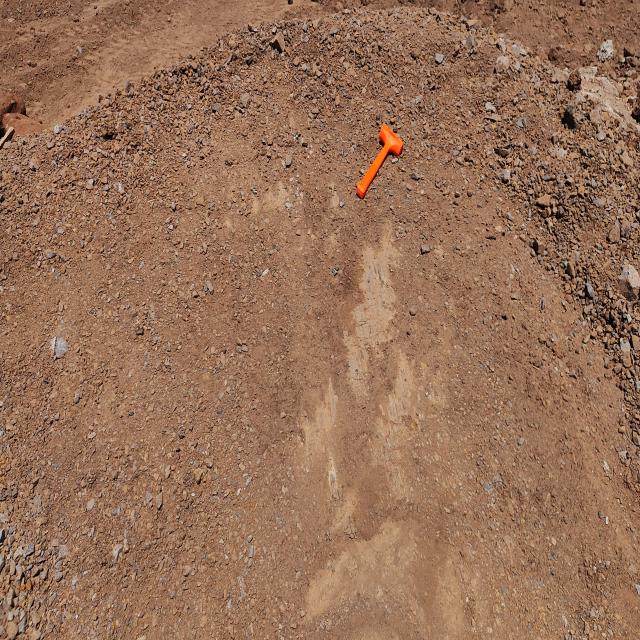Orange_hammer: (355, 122, 404, 200)
